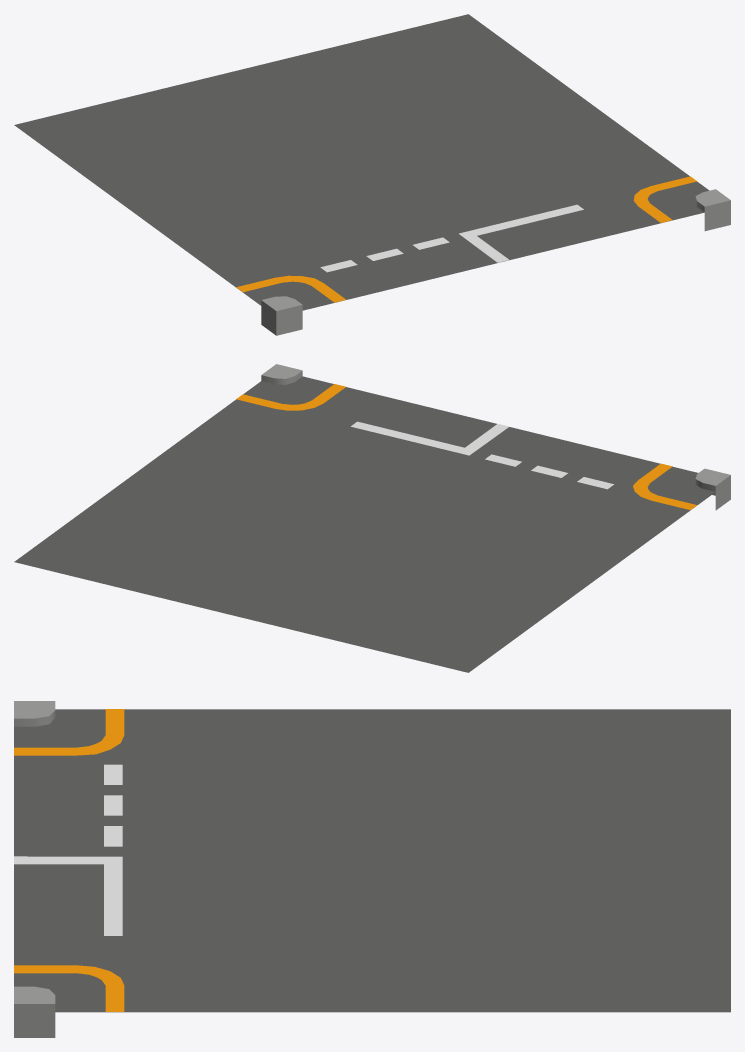
Rendered from ParkingRoad_B_1.fbx.
The picture shows the model from 3 angles, top to bottom: view 1: azimuth 30°, elevation 25°; view 2: azimuth 150°, elevation 25°; view 3: azimuth 270°, elevation 25°; orthographic projection. The views are drawn at different scales.
Visible parts, largest first — view 1: ParkingRoad_B_1; view 2: ParkingRoad_B_1; view 3: ParkingRoad_B_1.
Boxes of the visible parts, x1,y1,x2,y2 form: ParkingRoad_B_1: (14, 14, 730, 335); ParkingRoad_B_1: (14, 364, 730, 672); ParkingRoad_B_1: (14, 701, 730, 1037).
Size of the model in its own units: 800 by 41.48 by 800.
